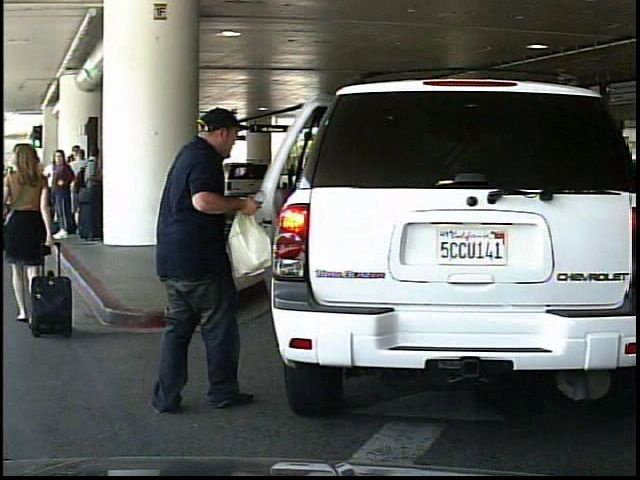person: (150, 105, 277, 411), (7, 137, 59, 332)
